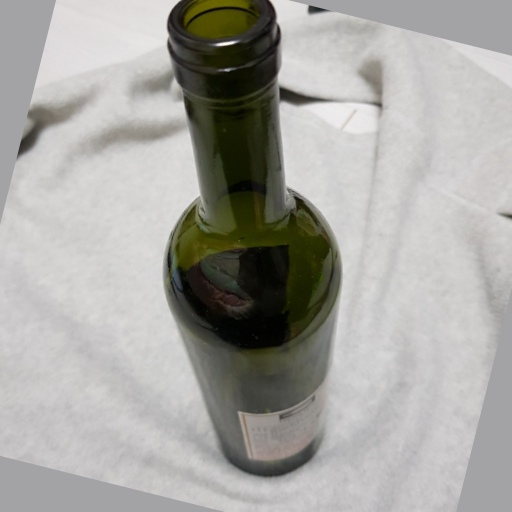Glass_2: (157, 1, 355, 477)
